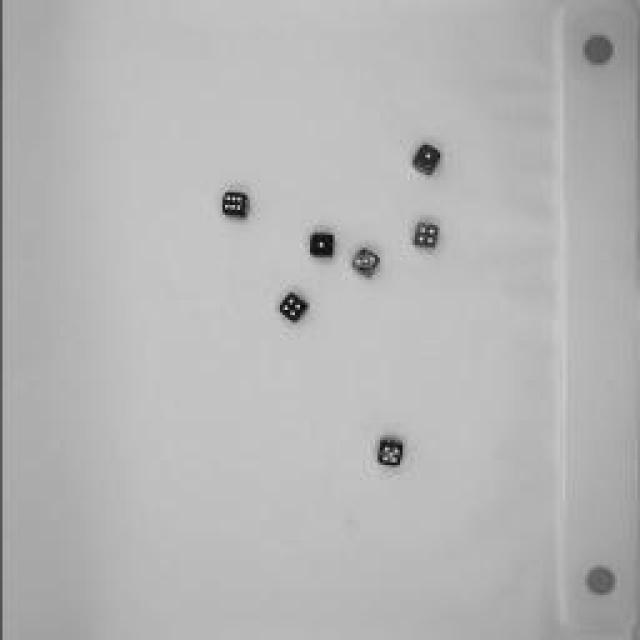dice_1: (408, 141, 442, 179), (305, 229, 337, 261)
dice_3: (344, 244, 381, 281)
dice_4: (402, 216, 442, 259), (270, 291, 312, 329)
dice_5: (369, 430, 406, 470)
dice_6: (214, 187, 254, 225)
